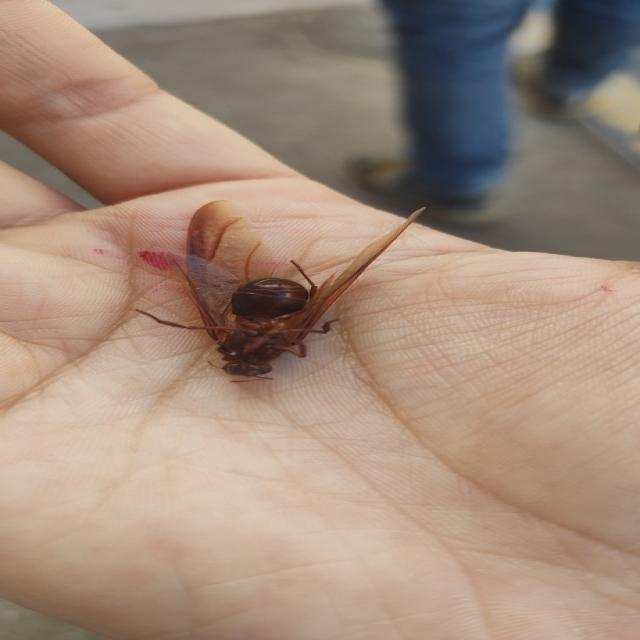Dead-Female-Alate: (134, 200, 427, 382)
